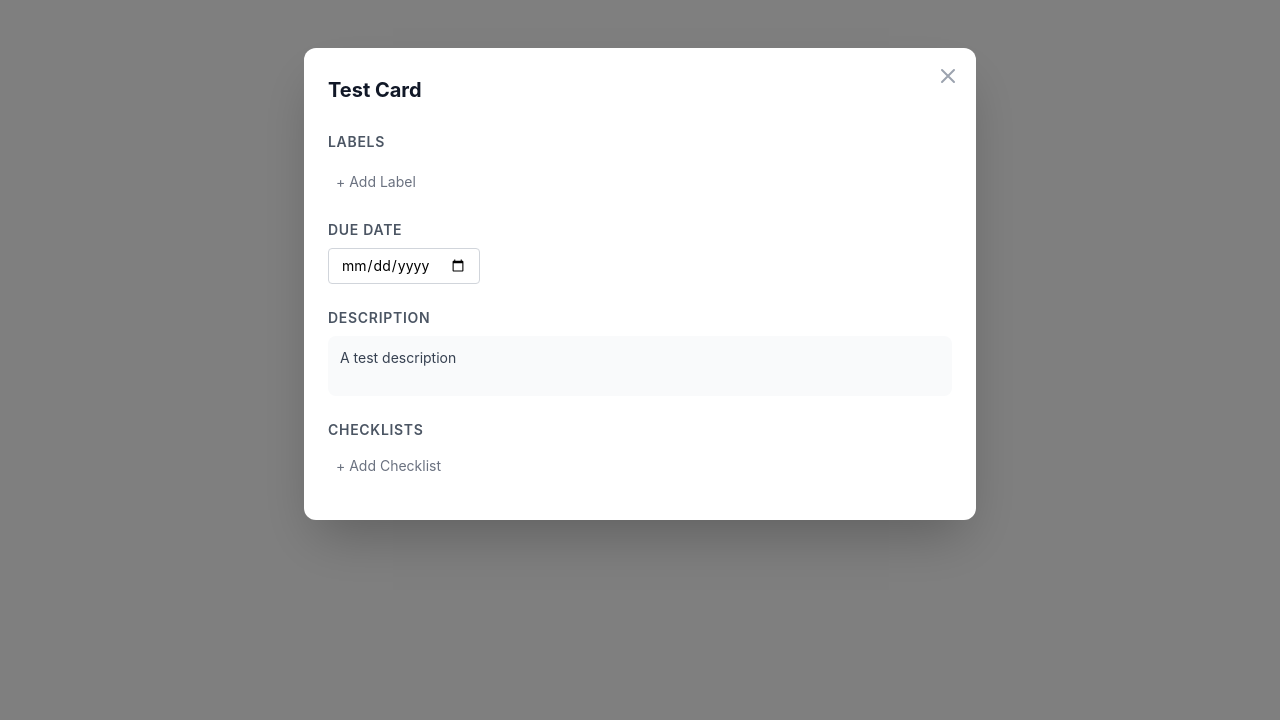
CardModal › checklists › shows checklist form when "+ Add Checklist" is clicked
The image size is (1280, 720).
Expected: the heading "Test Card" is shown, [328,78,422,102]
Step 1. Click the button "+ Add Checklist" → (388, 466), box [328,452,449,480]
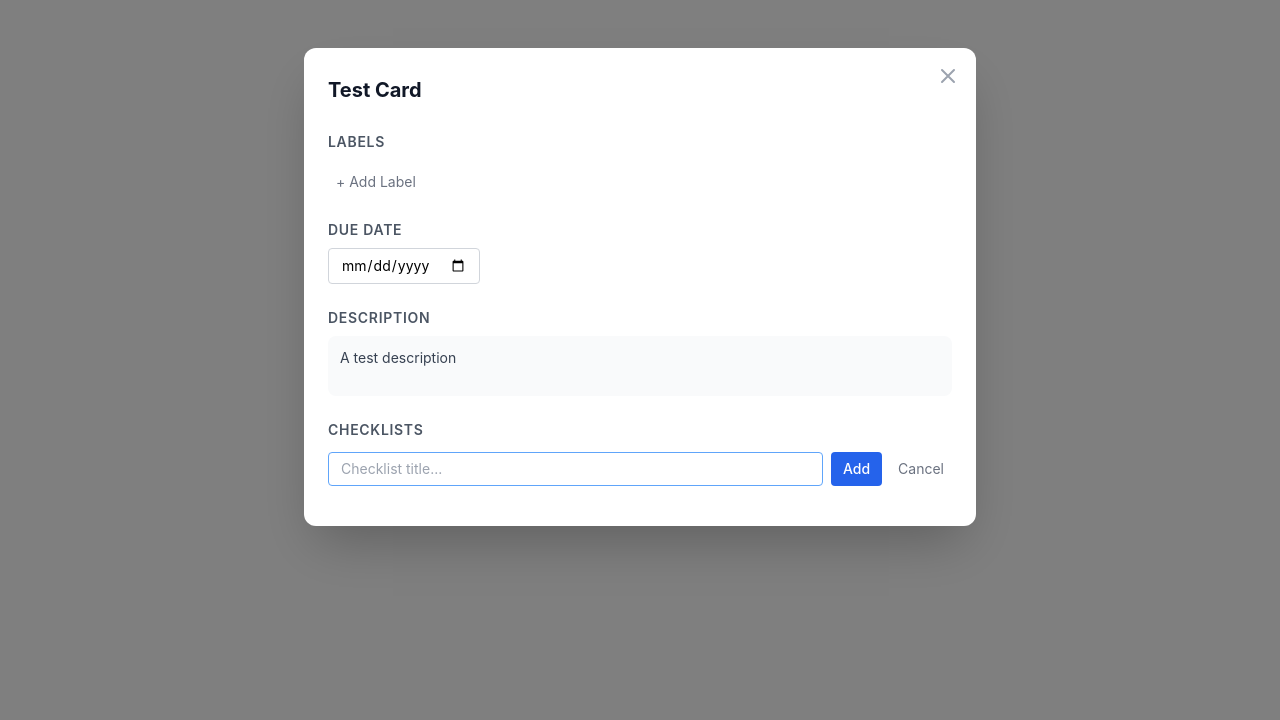
Expected: the field with placeholder "Checklist title..." is shown, [328,452,823,486]
